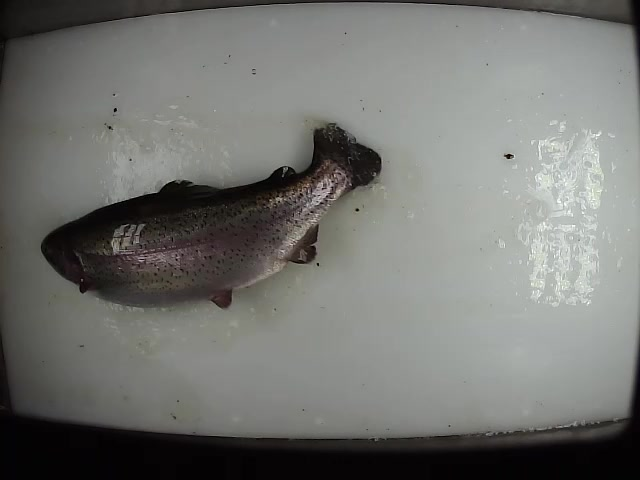fish: (37, 122, 383, 313)
